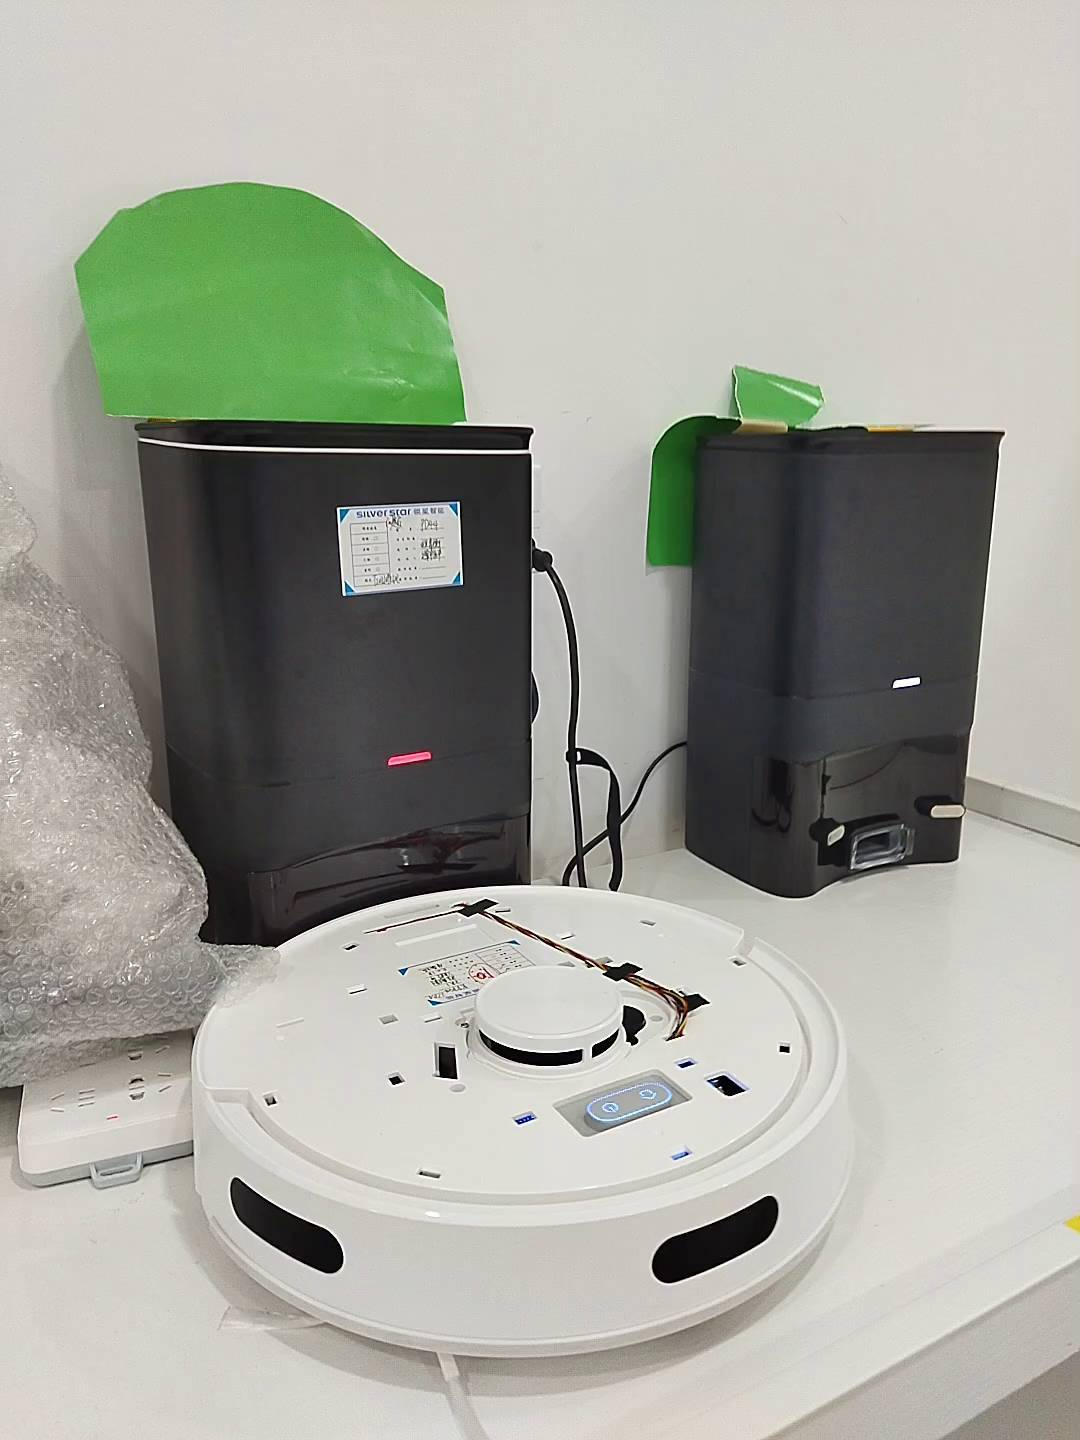dust collecting barrel: (136, 422, 531, 943), (682, 431, 1006, 903)
